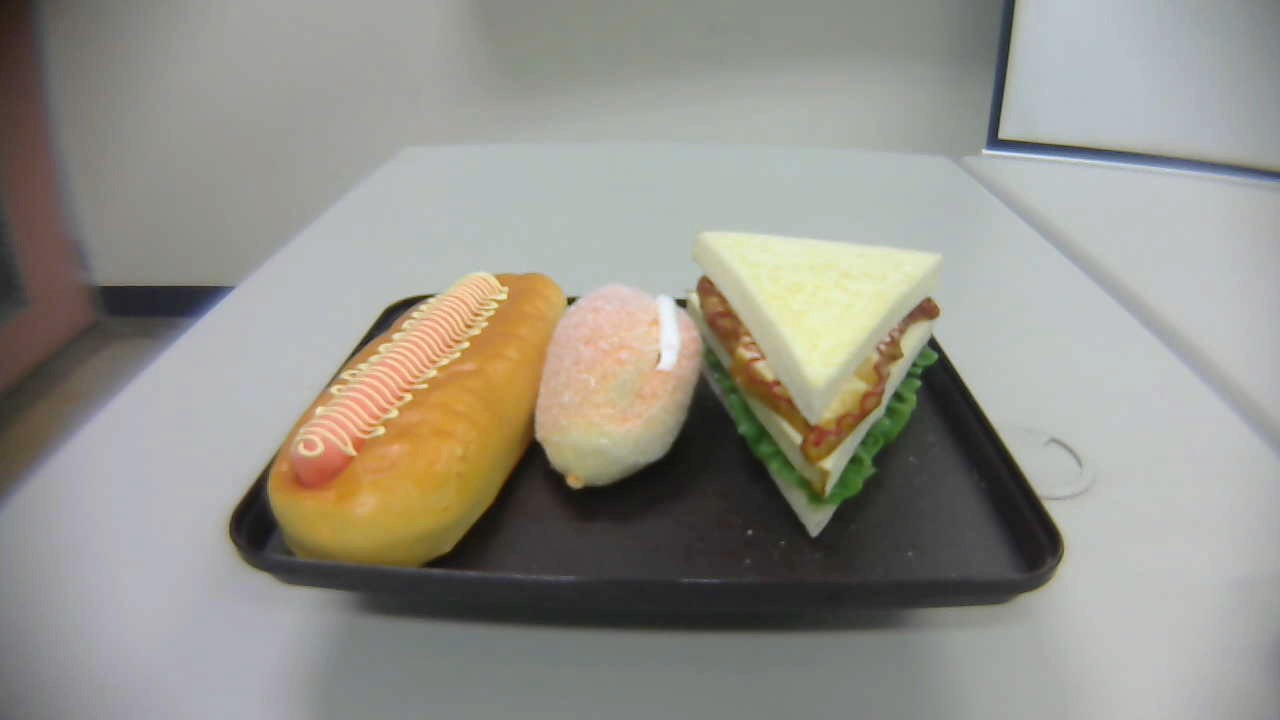coconut: (536, 283, 702, 489)
hot dog: (268, 270, 567, 572)
sandwich: (683, 230, 942, 542)
